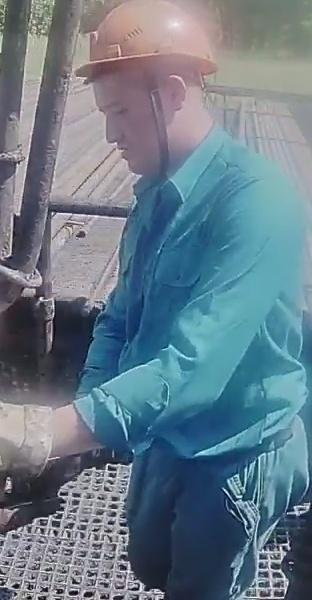gloves: (0, 397, 76, 483)
helmet: (74, 0, 219, 81)
vest: (124, 139, 312, 451)
